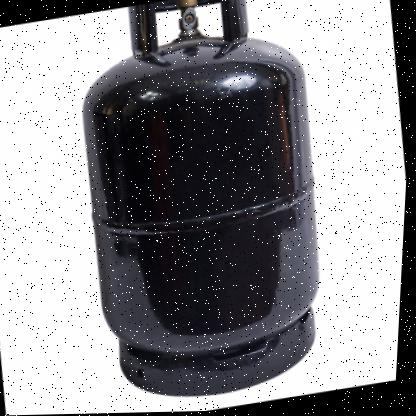gas-tank: (26, 0, 366, 414)
